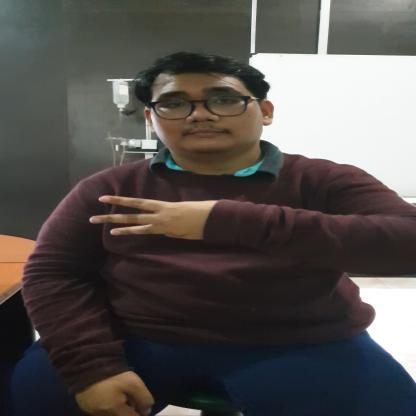E: (87, 194, 214, 241)
